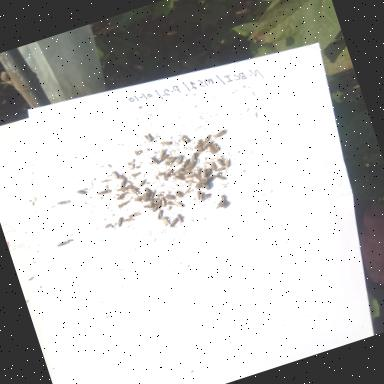pbw: (94, 186, 112, 198), (200, 172, 218, 184), (175, 166, 193, 178), (166, 214, 181, 228), (158, 135, 174, 148), (162, 153, 178, 166), (55, 196, 72, 208), (114, 198, 131, 210), (56, 237, 74, 248), (74, 185, 89, 198), (156, 152, 172, 164), (212, 127, 228, 139), (200, 138, 216, 150), (158, 214, 172, 227), (142, 130, 156, 143), (184, 158, 198, 171), (200, 180, 214, 192), (175, 210, 187, 224), (191, 140, 207, 150), (154, 207, 166, 220), (114, 215, 126, 228), (153, 196, 164, 210), (150, 201, 162, 213), (148, 154, 160, 166), (118, 176, 130, 188), (174, 152, 186, 164), (182, 170, 198, 179), (146, 196, 158, 208), (202, 131, 214, 143), (210, 140, 222, 152), (162, 168, 176, 178), (214, 172, 228, 182), (156, 146, 167, 158), (219, 191, 230, 203), (180, 132, 191, 144), (223, 156, 234, 168), (129, 185, 140, 197), (207, 143, 218, 155), (187, 150, 198, 162), (136, 178, 149, 188), (212, 164, 228, 172), (128, 210, 144, 218), (207, 159, 218, 170), (215, 156, 225, 168), (124, 214, 136, 224), (174, 172, 186, 182), (164, 191, 176, 201), (158, 196, 168, 208), (197, 190, 207, 201), (115, 190, 128, 198), (204, 167, 214, 177), (200, 168, 210, 178), (110, 168, 118, 180), (116, 184, 128, 192), (181, 158, 190, 167), (195, 166, 203, 176), (174, 200, 184, 208), (142, 202, 152, 210), (193, 189, 201, 198), (148, 192, 156, 200), (144, 187, 150, 195)
